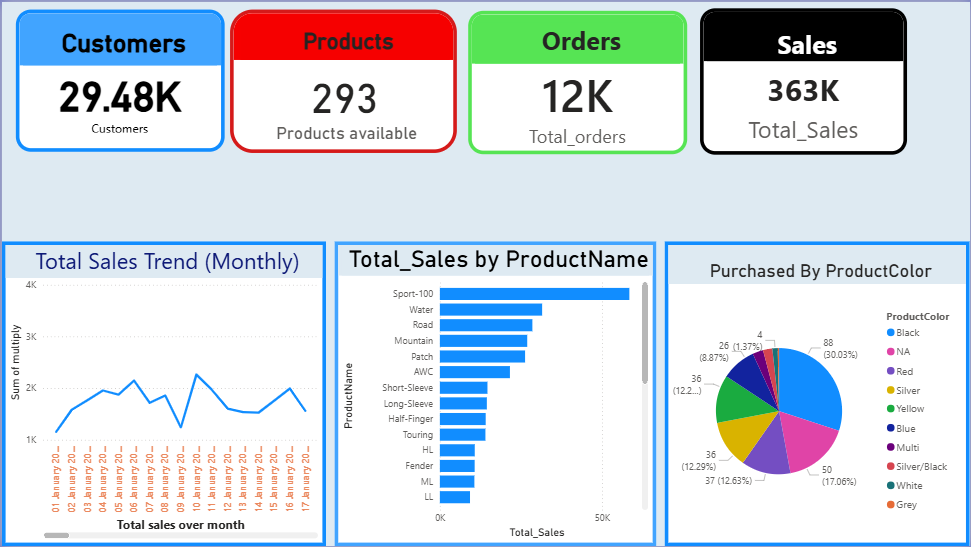

The page's visual inventory and layout, read from the dashboard file:
{"tool":"powerbi","page":{"name":"Page 1","canvas":[1280,720],"ordinal":0},"visuals":[{"type":"lineChart","title":"Total Sales Trend (Monthly)","fields":{"Y":["Sum(gold extsales (2).multiply)"],"Category":["gold extsales (2).OrderDate"]},"box":[0,316.7,428.3,403.3],"z":0},{"type":"card","title":"Customers","fields":{"Values":["CountNonNull(gold extsales (2).CustomerKey)"]},"box":[18,10,276,188],"z":1000},{"type":"card","title":"Products","fields":{"Values":["CountNonNull(gold extproduct (2).ProductKey)"]},"box":[302,10,300,190],"z":2000},{"type":"card","title":"Orders","fields":{"Values":["gold extsales (2).Total_orders"]},"box":[616,12,290,190],"z":3000},{"type":"card","title":"Sales","fields":{"Values":["gold extsales (2).Total_Sales"]},"box":[924,8,274,194],"z":4000},{"type":"clusteredBarChart","fields":{"Category":["gold extproduct (2).ProductName"],"Y":["gold extsales (2).Total_Sales"]},"box":[440,316.7,425,403.3],"z":5000},{"type":"pieChart","title":"Purchased By ProductColor","fields":{"Category":["gold extproduct (2).ProductColor"],"Y":["CountNonNull(gold extproduct (2).ProductKey)"]},"box":[876.7,316.7,403.3,403.3],"z":6000}]}

Visuals, with their boxes in screenshot pixels (x1, y1, x2, y2), scaled from the page's 1280x720 canvas onto the 971x547 screenshot:
"Total Sales Trend (Monthly)" lineChart: (x1=0, y1=241, x2=325, y2=546)
"Customers" card: (x1=14, y1=8, x2=223, y2=150)
"Products" card: (x1=229, y1=8, x2=457, y2=152)
"Orders" card: (x1=467, y1=9, x2=687, y2=153)
"Sales" card: (x1=701, y1=6, x2=909, y2=153)
clusteredBarChart - gold extproduct (2).ProductName x gold extsales (2).Total_Sales: (x1=334, y1=241, x2=656, y2=546)
"Purchased By ProductColor" pieChart: (x1=665, y1=241, x2=970, y2=546)
